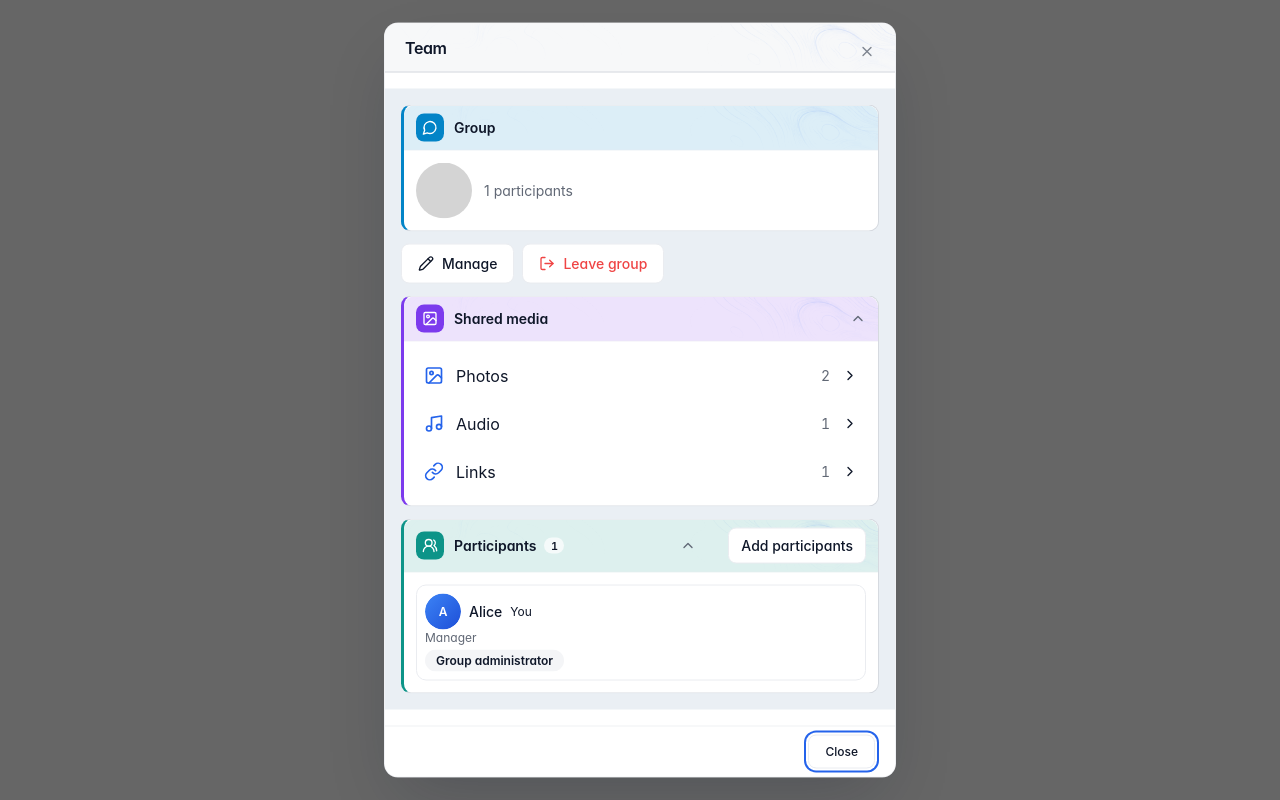
Scenario: preserves the edited profile after a failed save without exposing server details
This screenshot has width=1280, height=800.
Click the button "Manage": (458, 264) [401,244,514,284]
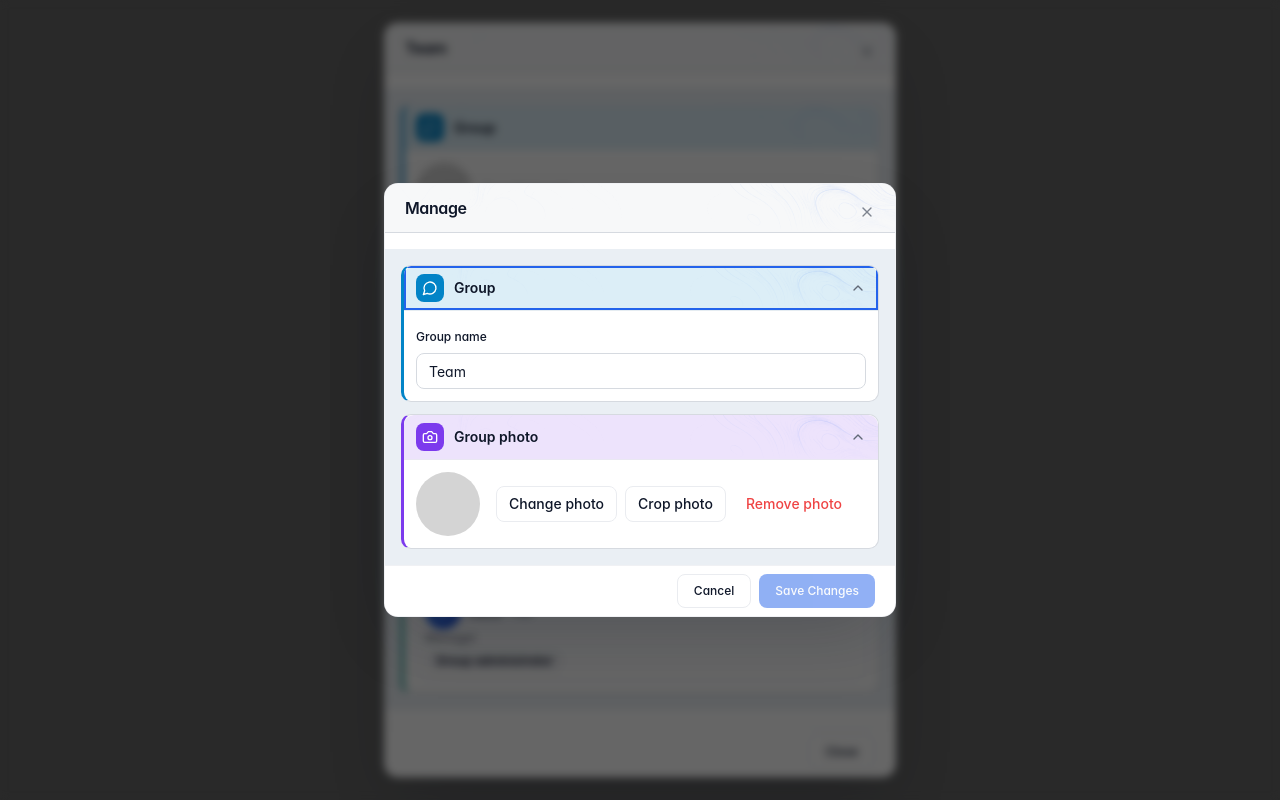
Replace the text in the field labelled "Group name" with "Retry team": (641, 371) [416,353,866,389]
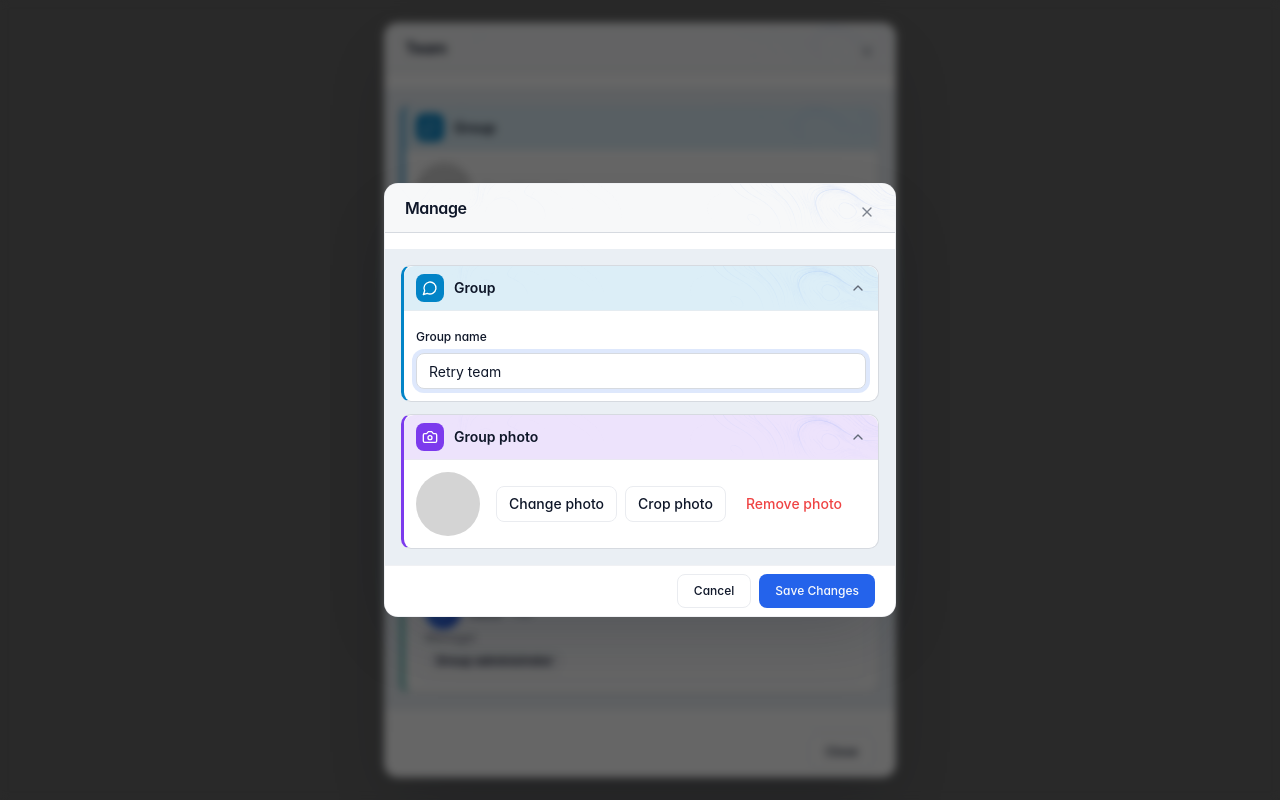
Click the button "Save Changes": (817, 591) [759,574,875,608]
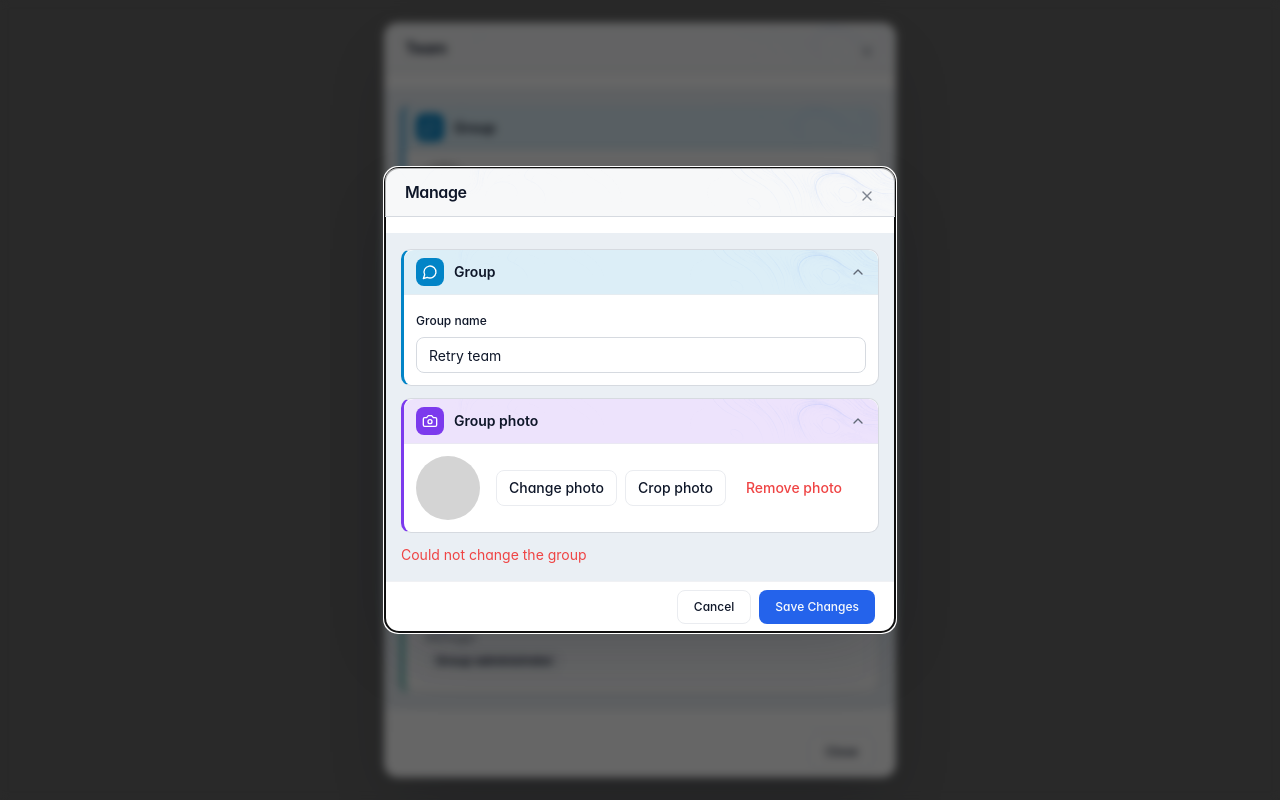
Check: the heading "Team" is shown, box [405,38,447,58]
Check: the text "Could not change the group" is shown, box [401,546,587,563]
